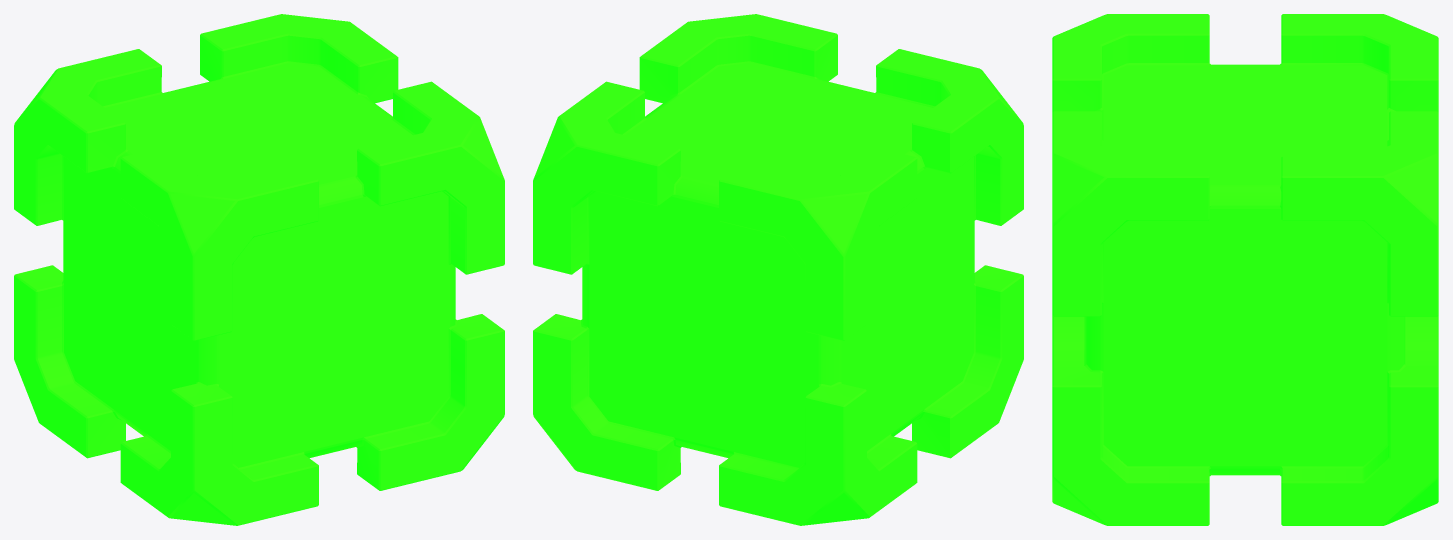
File: Terminal_Cube.fbx
3 renders of one model, left to right at view 1: azimuth 30°, elevation 25°; view 2: azimuth 150°, elevation 25°; view 3: azimuth 270°, elevation 25°, orthographic. The views are drawn at different scales.
Visible parts, largest first — view 1: Matrix Cube.002; view 2: Matrix Cube.002; view 3: Matrix Cube.002.
Boxes of the visible parts, left/top/right/bottom form: Matrix Cube.002: left=14, top=14, right=504, bottom=525; Matrix Cube.002: left=533, top=14, right=1023, bottom=525; Matrix Cube.002: left=1052, top=14, right=1438, bottom=525.
Bounding box in the file's own units: 1.25 × 1.25 × 1.25.
